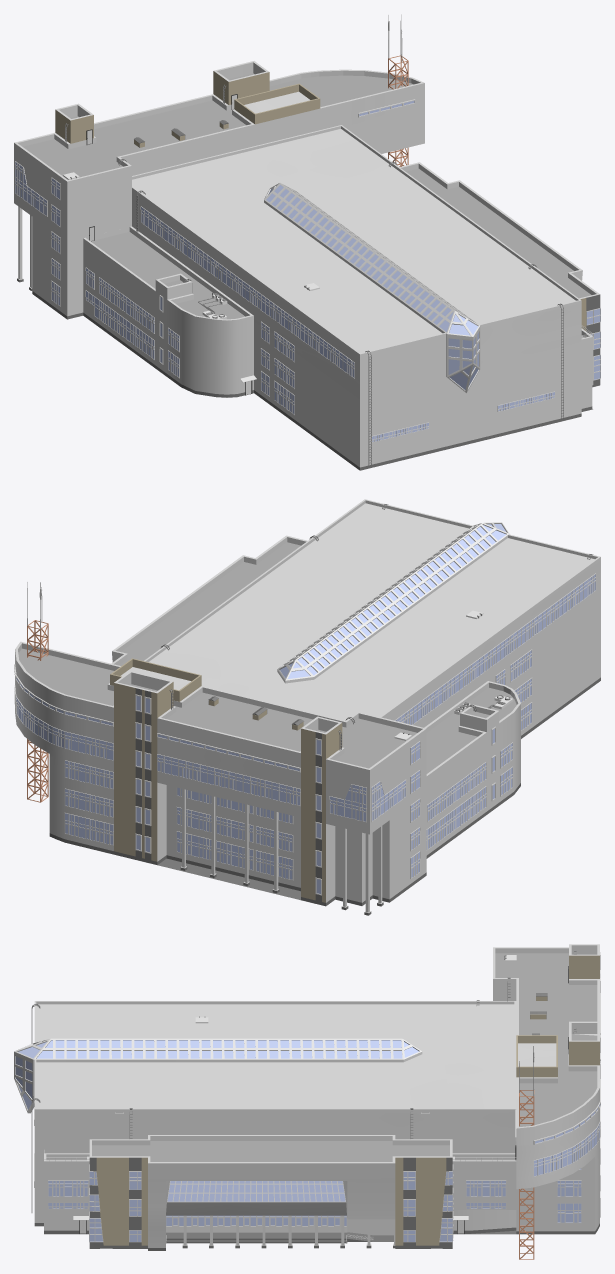
Rendered from Multifuncktional_center.FBX.
3 renders of one model, top to bottom at view 1: azimuth 30°, elevation 25°; view 2: azimuth 150°, elevation 25°; view 3: azimuth 270°, elevation 25°, orthographic. The views are drawn at different scales.
Visible parts, largest first — view 1: Multifuncktional_center; view 2: Multifuncktional_center; view 3: Multifuncktional_center.
Part boxes in pixels (x1,y1,x2,y2): Multifuncktional_center: (14,14,600,470); Multifuncktional_center: (14,499,600,915); Multifuncktional_center: (14,944,600,1259).
Bounding box in the file's own units: 5199 × 2774 × 7110.
